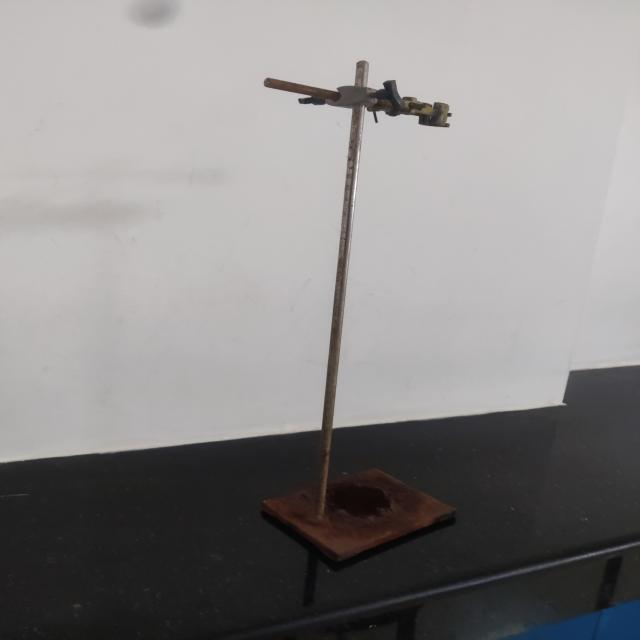Burette_Stands: (220, 38, 477, 570)
